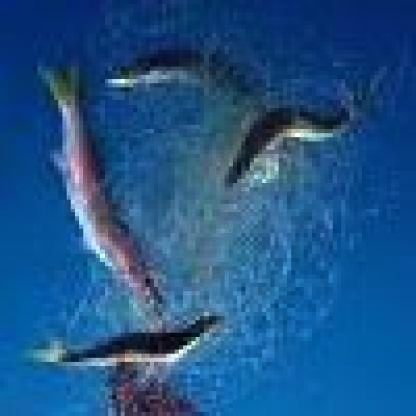net: (125, 92, 341, 354)
